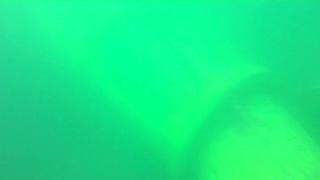pipe: (24, 1, 282, 179), (185, 85, 320, 180)
